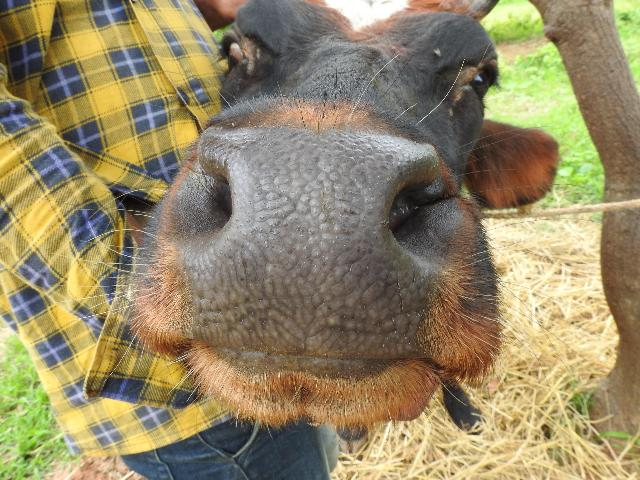Muzzle: (213, 138, 393, 351)
